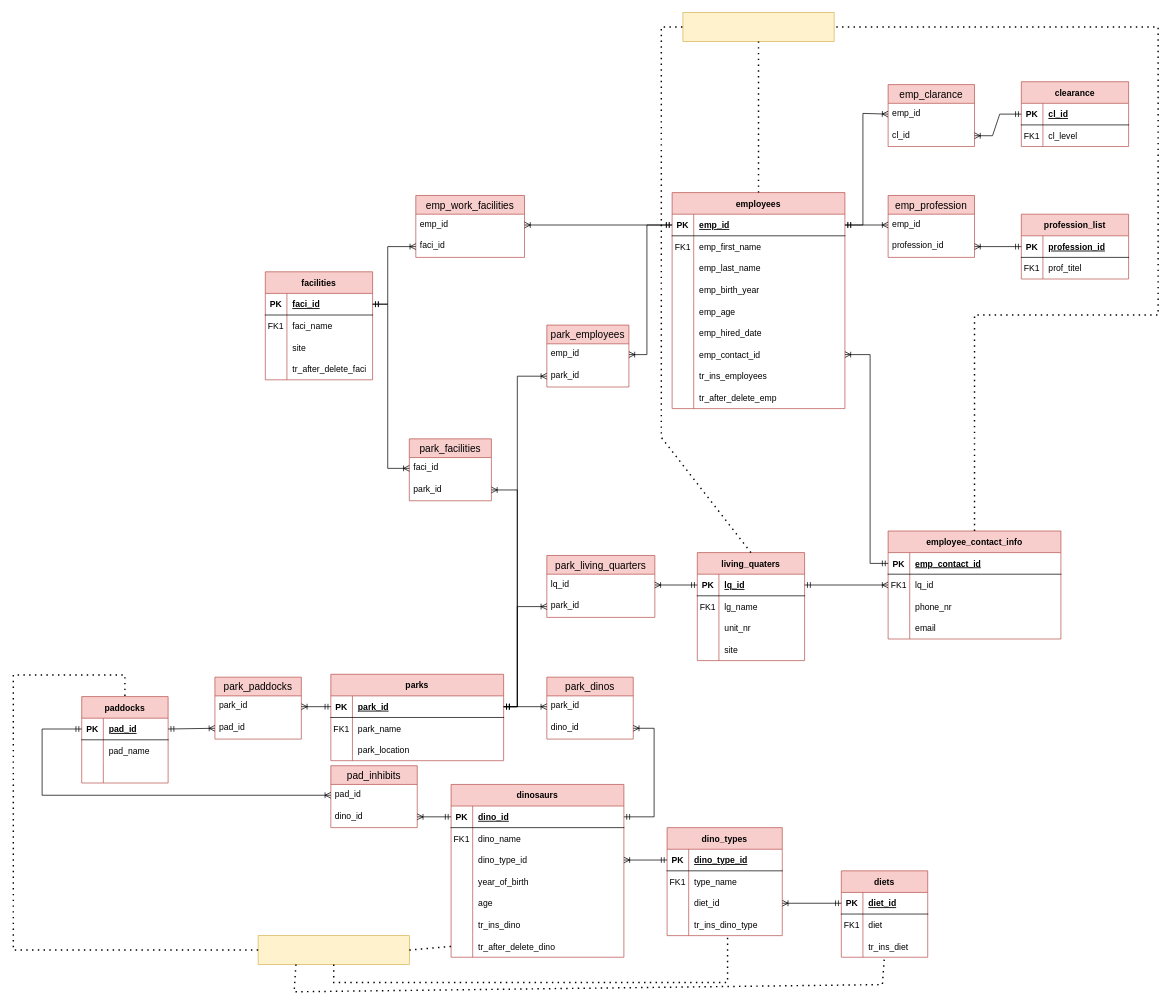
Some shapes in this 1171 by 1006 pixel diagram are drawn without their labels. Here are the shapes that lost their labels. From the top down, the centre of each, then its label:
At point 758,26: "vw_emp_info".
At point 333,949: "vw_dino_info".
